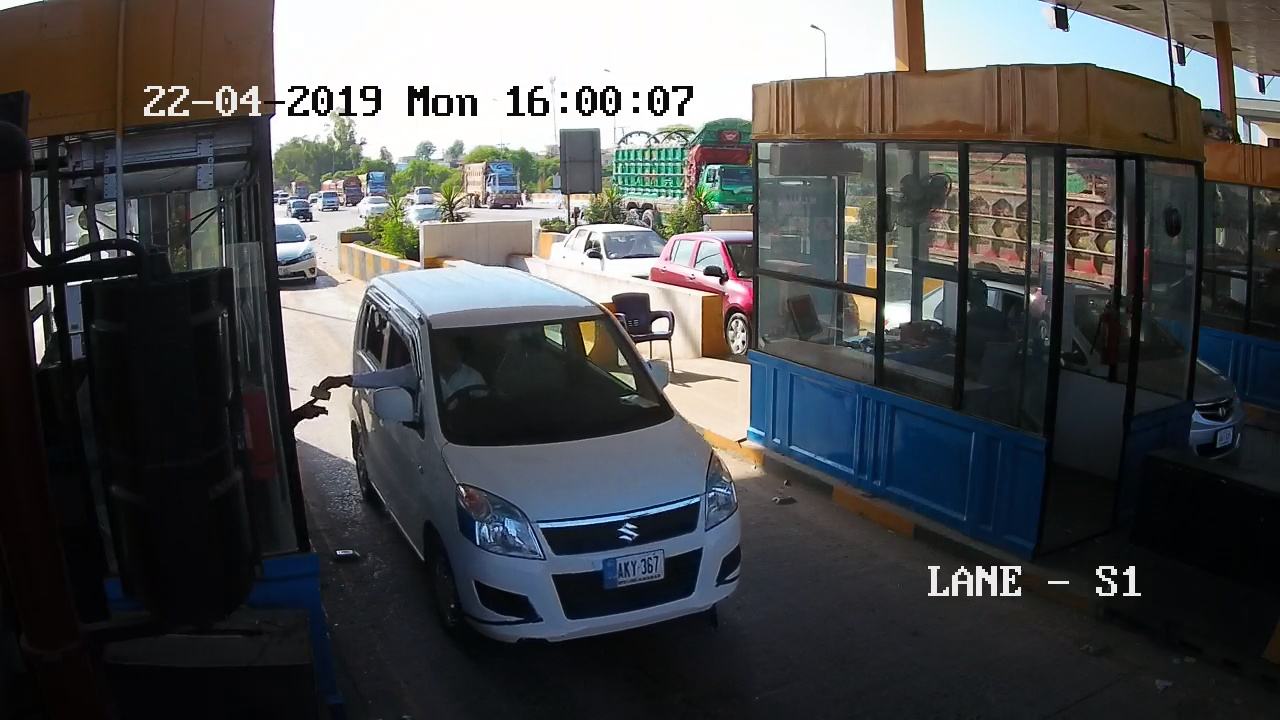car: (358, 267, 758, 659)
